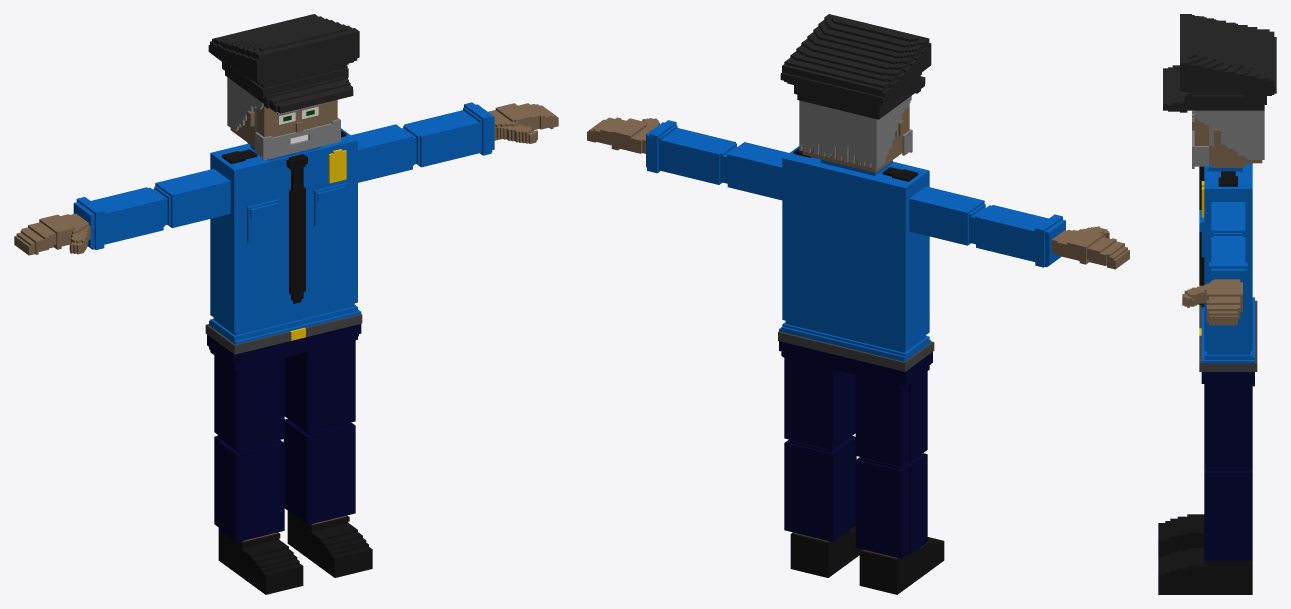
The model's file is cop4.obj.
The picture shows the model from 3 angles, left to right: view 1: azimuth 30°, elevation 25°; view 2: azimuth 150°, elevation 25°; view 3: azimuth 270°, elevation 25°; orthographic projection.
Bounding box in the file's own units: 25.3 × 24.3 × 4.9.
Materials: 1 (1 with a texture image).
